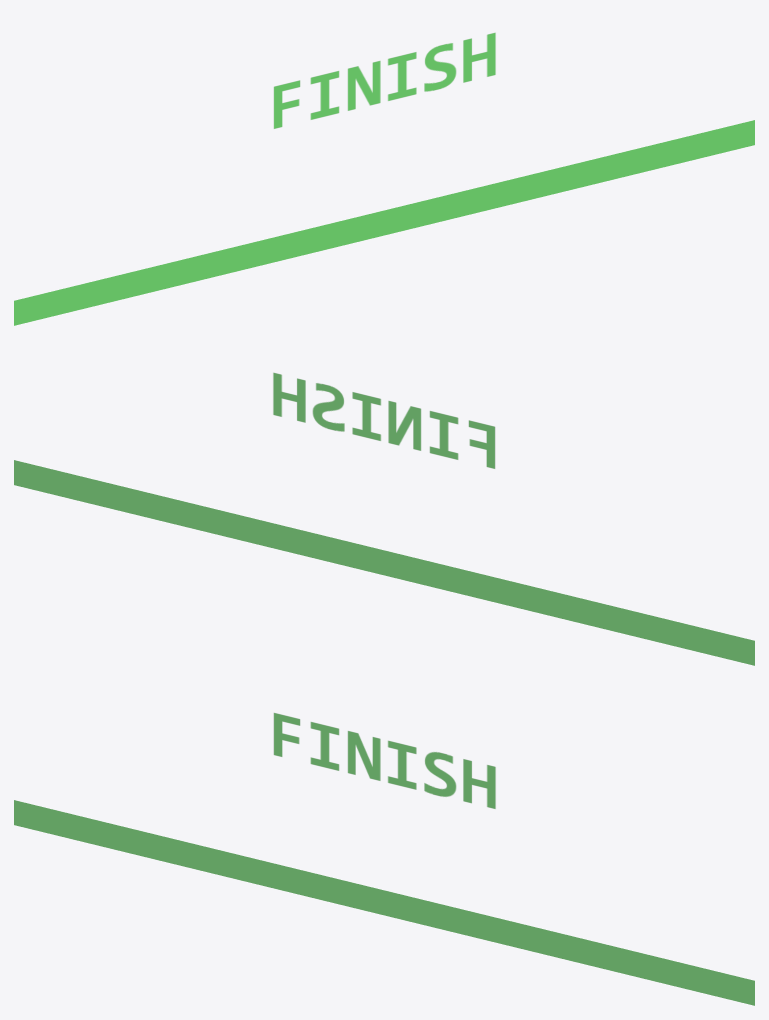
The model's file is cosmic_exit.glb.
The picture shows the model from 3 angles, top to bottom: view 1: azimuth 30°, elevation 25°; view 2: azimuth 150°, elevation 25°; view 3: azimuth 330°, elevation 25°; orthographic projection.
Parts seen in each view (by area): view 1: cosmic_exit; view 2: cosmic_exit; view 3: cosmic_exit.
Part boxes in pixels (x1,y1,x2,y2): cosmic_exit: [14, 33, 754, 325]; cosmic_exit: [14, 373, 754, 665]; cosmic_exit: [14, 713, 754, 1005].
Size of the model in its own units: 0.8837 by 0.2197 by 7.45e-08.
Materials: 1 (1 with a texture image).
